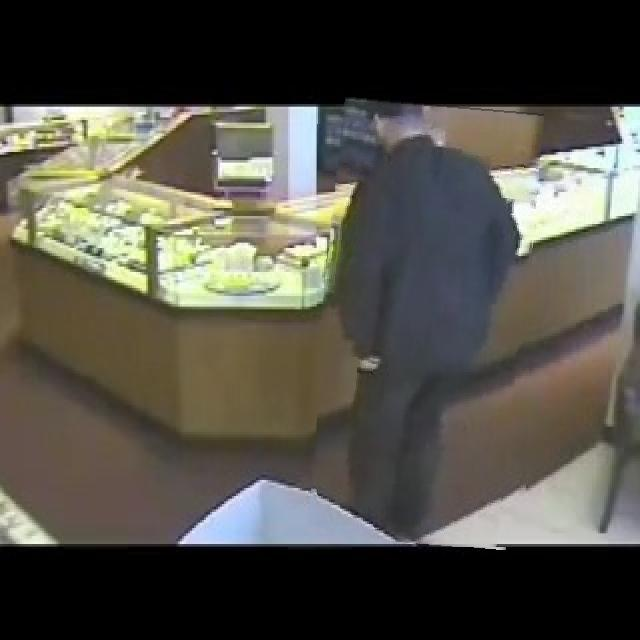normal: (317, 101, 535, 547)
